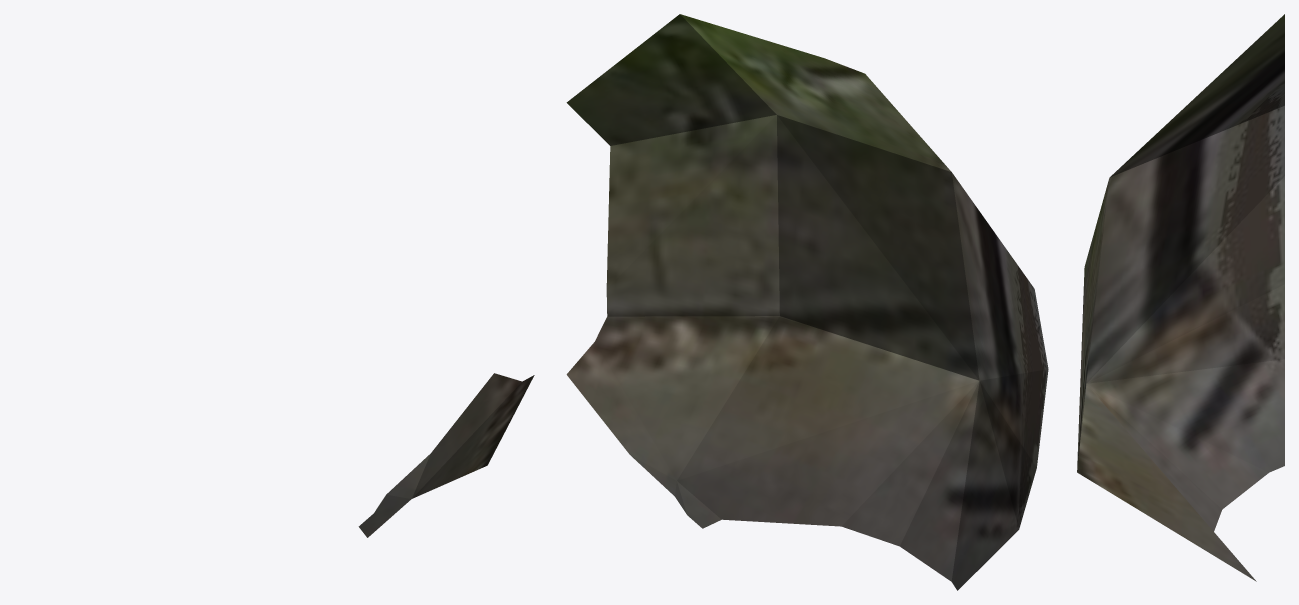
3 views of the same model, side by side, from view 1: azimuth 30°, elevation 25°; view 2: azimuth 150°, elevation 25°; view 3: azimuth 270°, elevation 25° (orthographic).
Bounding box in the file's own units: 0.9418 × 0.9508 × 0.3499.
1 material, 1 textured.
